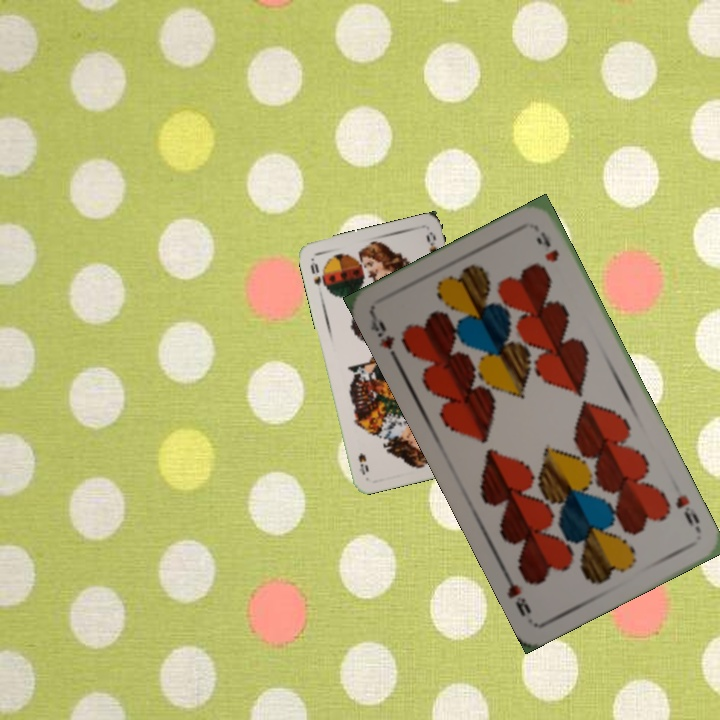H9: (366, 310, 402, 365), (671, 490, 703, 528)
SO: (306, 255, 328, 289)
